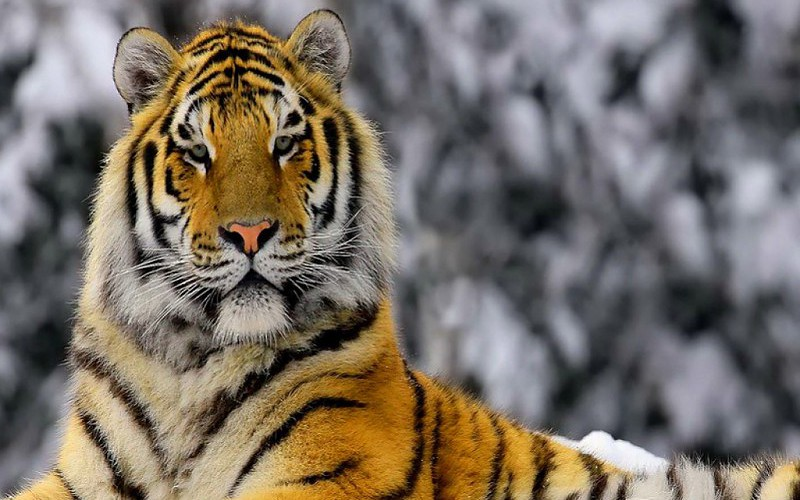Tigrew: (40, 15, 590, 482)
